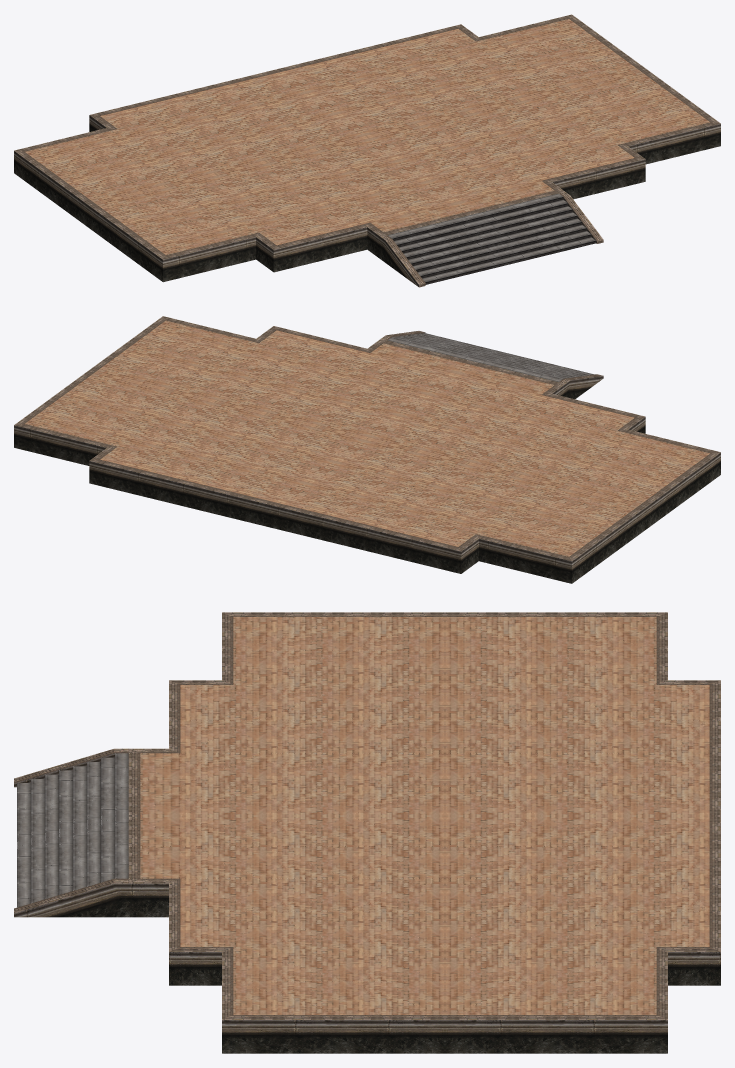
The model's file is SwordSpirit_Square_house01_base.FBX.
3 views of the same model, one above another, from view 1: azimuth 30°, elevation 25°; view 2: azimuth 150°, elevation 25°; view 3: azimuth 270°, elevation 25° (orthographic). The views are drawn at different scales.
Visible parts, largest first — view 1: Object432; view 2: Object432; view 3: Object432.
Boxes of the visible parts, left/top/right/bottom form: Object432: left=14, top=14, right=720, bottom=287; Object432: left=14, top=316, right=720, bottom=583; Object432: left=14, top=612, right=720, bottom=1053.
Size of the model in its own units: 3907 by 151 by 2864.
Materials: 4 (4 with a texture image).
